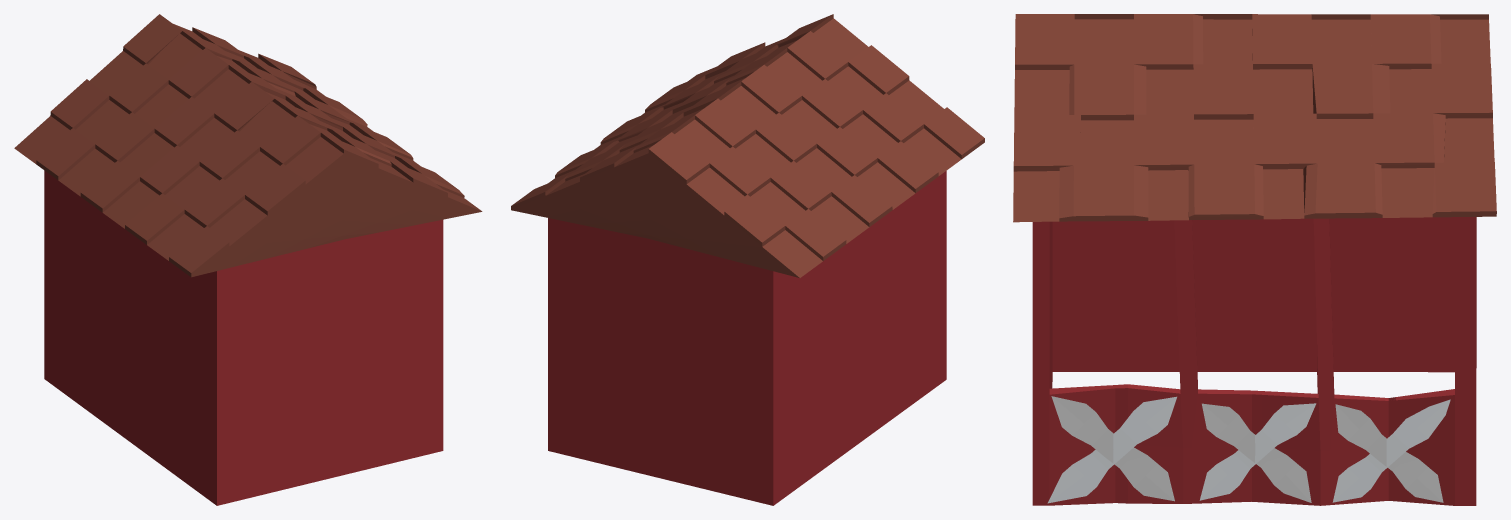
Rendered from stables.fbx.
3 renders of one model, left to right at view 1: azimuth 30°, elevation 25°; view 2: azimuth 150°, elevation 25°; view 3: azimuth 270°, elevation 25°, orthographic. The views are drawn at different scales.
Visible parts, largest first — view 1: bottom, Cube; view 2: bottom, Cube; view 3: bottom, Cube, Plane.001, Plane, Plane.002.
Part boxes in pixels (box(x1,y1,x2,y2)): bottom: box(44, 170, 443, 505); Cube: box(14, 14, 482, 277); bottom: box(548, 171, 946, 505); Cube: box(511, 14, 984, 277); bottom: box(1032, 217, 1476, 505); Cube: box(1013, 14, 1496, 222); Plane.001: box(1047, 396, 1176, 503); Plane: box(1199, 403, 1316, 502); Plane.002: box(1332, 399, 1450, 502).
Size of the model in its own units: 1249 by 1366 by 1408.
